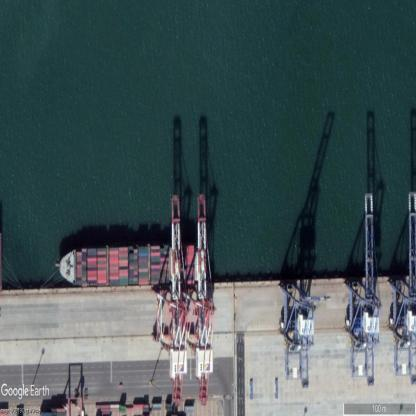ship: (58, 247, 206, 284)
